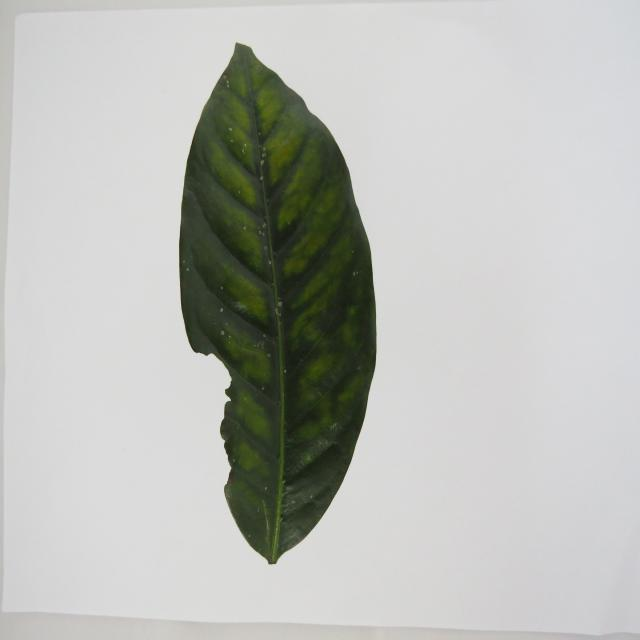DeficienciaNutricional-Magnesio: (179, 43, 376, 565)
